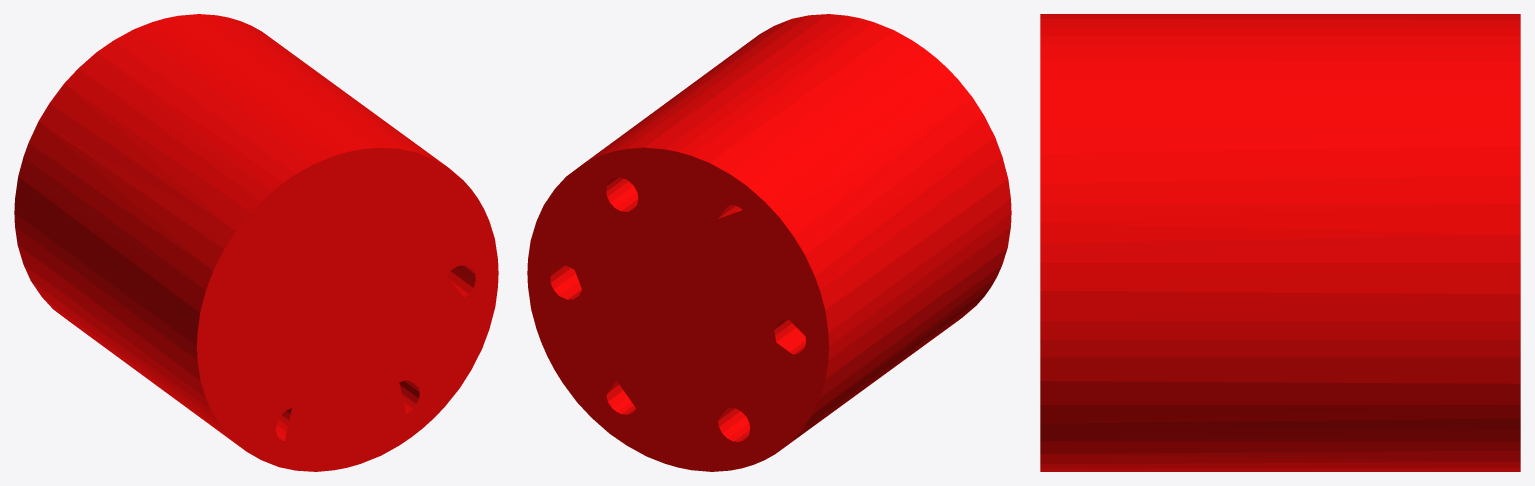
The model's file is right_arm_1_x6_1_inner_1.glb.
3 views of the same model, side by side, from view 1: azimuth 30°, elevation 25°; view 2: azimuth 150°, elevation 25°; view 3: azimuth 270°, elevation 25° (orthographic). The views are drawn at different scales.
Parts seen in each view (by area): view 1: right_arm_1_x6_1_inner_1.obj; view 2: right_arm_1_x6_1_inner_1.obj; view 3: right_arm_1_x6_1_inner_1.obj.
Part boxes in pixels (box(x1,y1,x2,y2)): right_arm_1_x6_1_inner_1.obj: box(14, 14, 498, 471); right_arm_1_x6_1_inner_1.obj: box(527, 14, 1011, 471); right_arm_1_x6_1_inner_1.obj: box(1040, 14, 1520, 471).
Bounding box in the file's own units: 0.031 × 0.031 × 0.0325.
